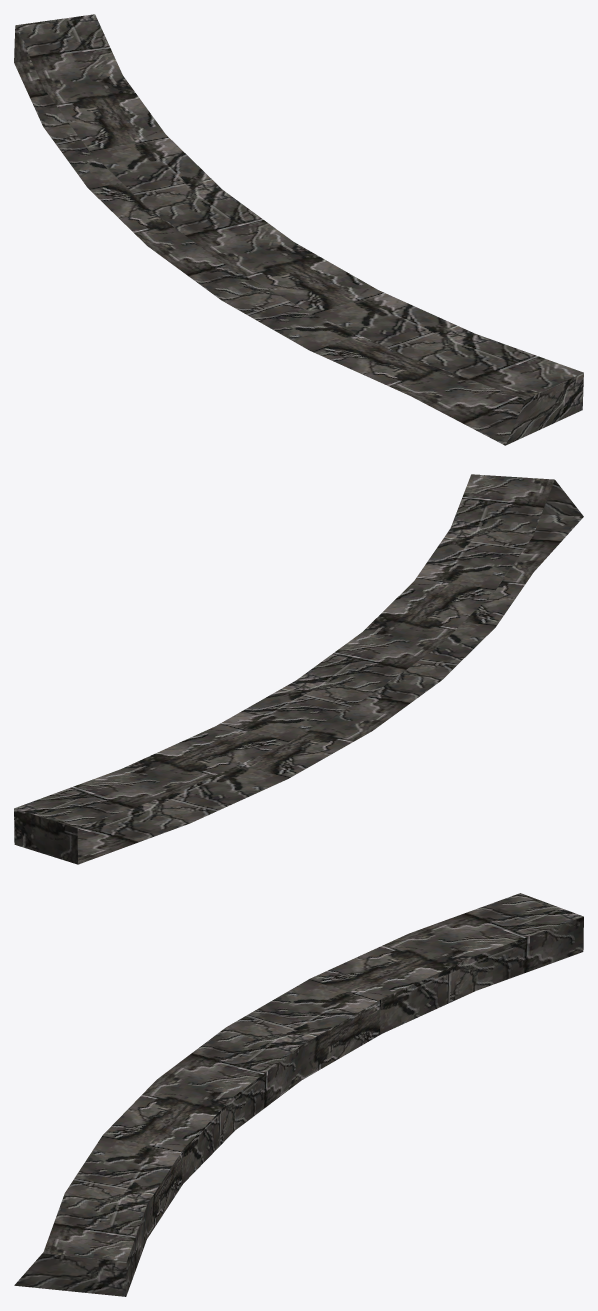
The model's file is CH09_SMAUG_PLAYSURFACE_LAIR75.fbx.
The picture shows the model from 3 angles, top to bottom: view 1: azimuth 30°, elevation 25°; view 2: azimuth 150°, elevation 25°; view 3: azimuth 330°, elevation 25°; orthographic projection. The views are drawn at different scales.
Visible parts, largest first — view 1: CH09_SMAUG_PLAYSURFACE_LAIR75; view 2: CH09_SMAUG_PLAYSURFACE_LAIR75; view 3: CH09_SMAUG_PLAYSURFACE_LAIR75.
Boxes of the visible parts, <box> form: CH09_SMAUG_PLAYSURFACE_LAIR75: <box>14,14,583,445</box>; CH09_SMAUG_PLAYSURFACE_LAIR75: <box>14,474,583,864</box>; CH09_SMAUG_PLAYSURFACE_LAIR75: <box>14,893,583,1296</box>.
Size of the model in its own units: 25596 by 6640 by 135678.
Materials: 1 (1 with a texture image).
